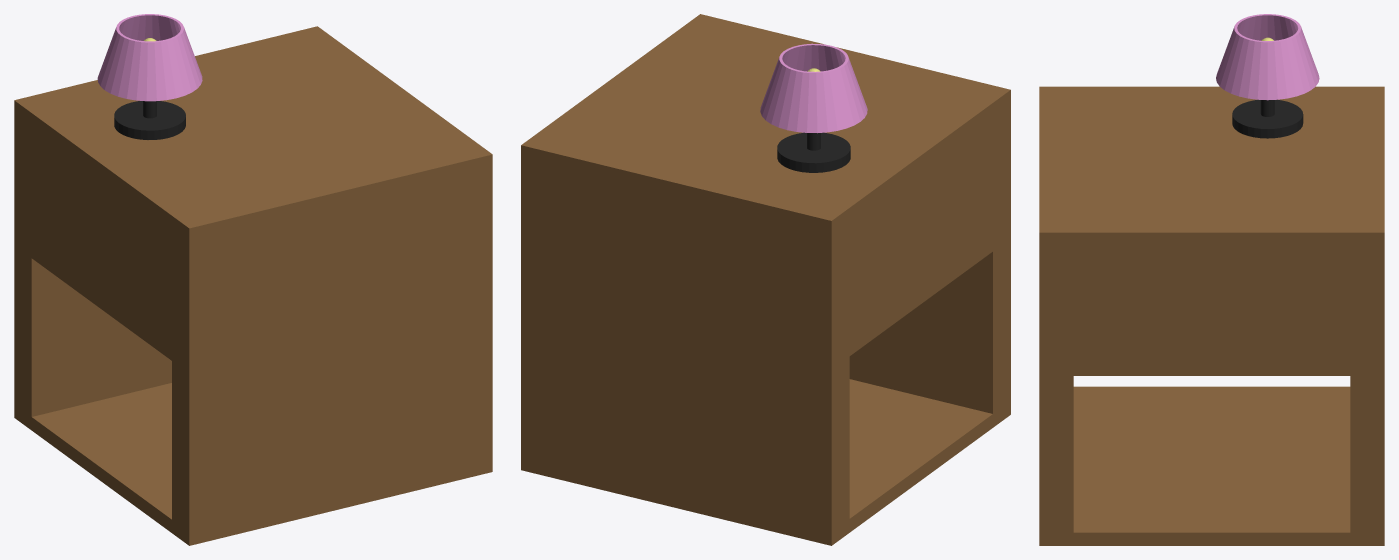
The model's file is Nighttable.glb.
The picture shows the model from 3 angles, left to right: view 1: azimuth 30°, elevation 25°; view 2: azimuth 150°, elevation 25°; view 3: azimuth 270°, elevation 25°; orthographic projection. The views are drawn at different scales.
Parts seen in each view (by area): view 1: Cube, Cylinder.001, Cylinder; view 2: Cube, Cylinder.001, Cylinder; view 3: Cube, Cylinder.001, Cylinder.
Part boxes in pixels (x1,y1,x2,y2): Cube: (14, 26, 492, 545); Cylinder.001: (97, 14, 202, 101); Cylinder: (114, 101, 185, 139); Cube: (521, 14, 1010, 545); Cylinder.001: (760, 43, 867, 133); Cylinder: (777, 132, 850, 172); Cube: (1039, 86, 1384, 545); Cylinder.001: (1216, 14, 1319, 100); Cylinder: (1232, 99, 1303, 138).
Bounding box in the file's own units: 0.5 × 0.6522 × 0.5.
